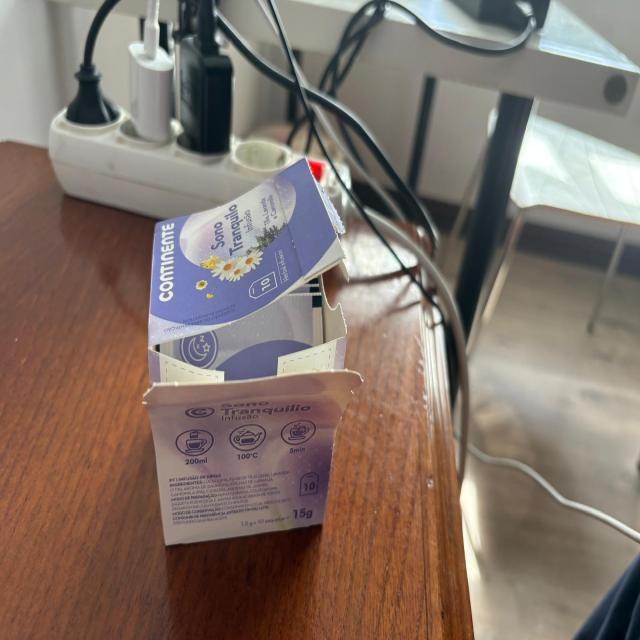damaged_package: (144, 156, 362, 551)
